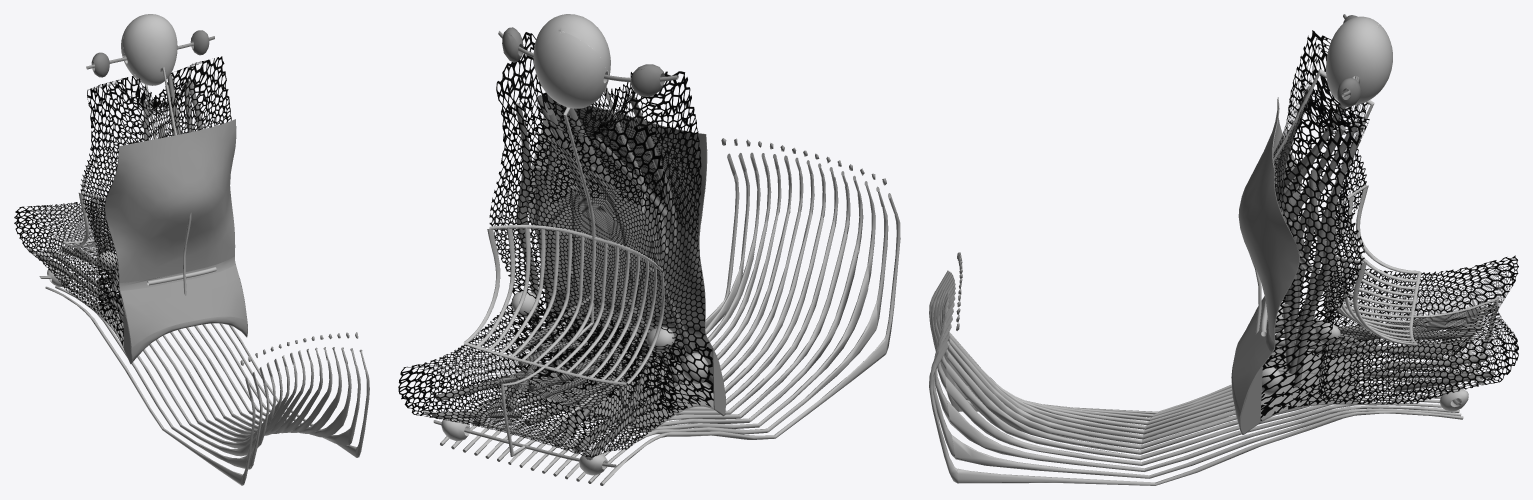
Rendered from DSE-antst-v5.glb.
3 views of the same model, side by side, from view 1: azimuth 30°, elevation 25°; view 2: azimuth 150°, elevation 25°; view 3: azimuth 270°, elevation 25° (orthographic). The views are drawn at different scales.
Visible parts, largest first — view 1: Merged Objects 3, Merged Objects 4, Merged Objects 7, Merged Objects 5, Merged Objects 6; view 2: Merged Objects 7, Merged Objects 4, Merged Objects 3, Merged Objects 6, Merged Objects 5; view 3: Merged Objects 4, Merged Objects 7, Merged Objects 6, Merged Objects 3, Merged Objects 5.
Boxes of the visible parts, x1,y1,x2,y2 form: Merged Objects 3: (39,36,358,365); Merged Objects 4: (33,246,369,485); Merged Objects 7: (14,56,231,344); Merged Objects 5: (47,14,191,322); Merged Objects 6: (28,30,209,308); Merged Objects 7: (398,32,713,457); Merged Objects 4: (423,152,900,485); Merged Objects 3: (433,31,886,467); Merged Objects 6: (431,27,693,460); Merged Objects 5: (441,14,708,475); Merged Objects 4: (929,270,1486,485); Merged Objects 7: (1260,30,1518,420); Merged Objects 6: (1275,15,1494,391); Merged Objects 3: (956,14,1460,434); Merged Objects 5: (1249,16,1498,411).
Size of the model in its own units: 0.6005 by 1.45 by 1.79.
5 materials, 1 textured.
